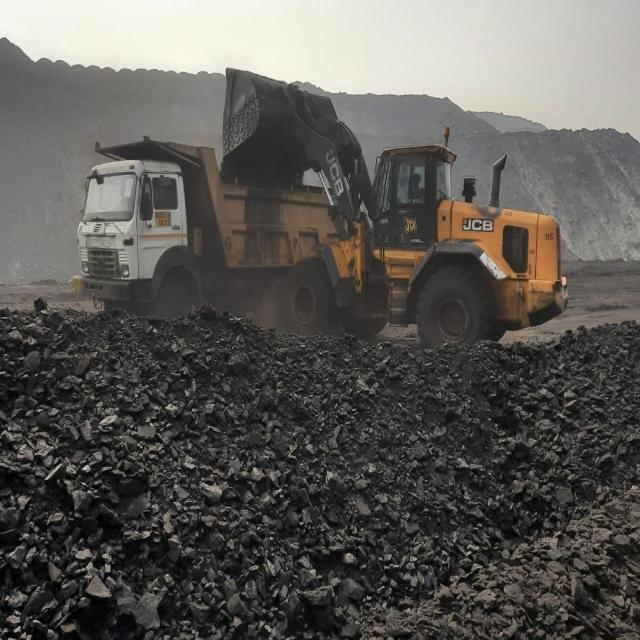buldozerpayloadergrader: (226, 37, 575, 351)
dump_truck: (61, 130, 332, 325)
